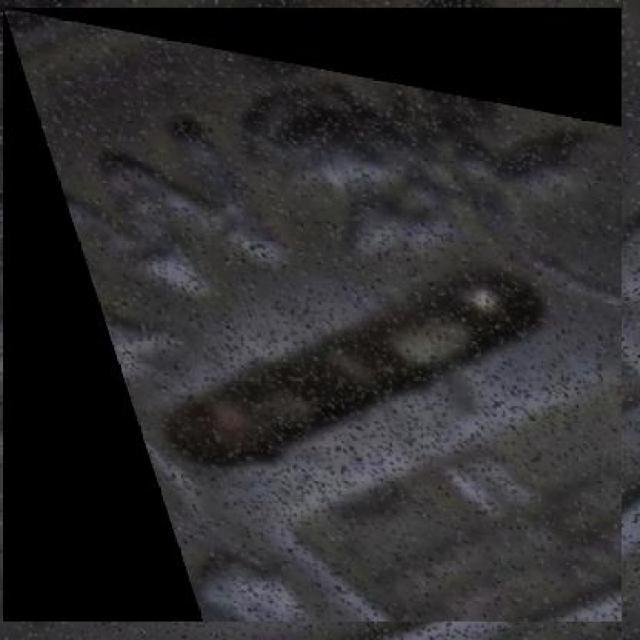Manhole: (4, 8, 622, 622)
